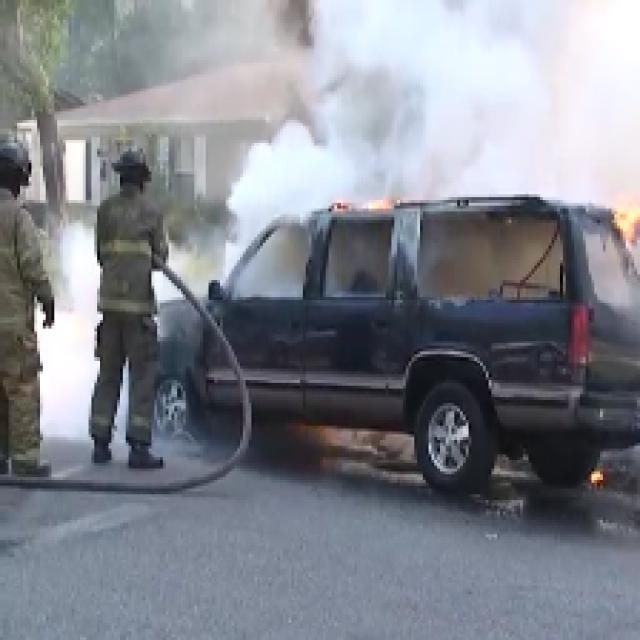Smoke: (316, 5, 636, 194)
